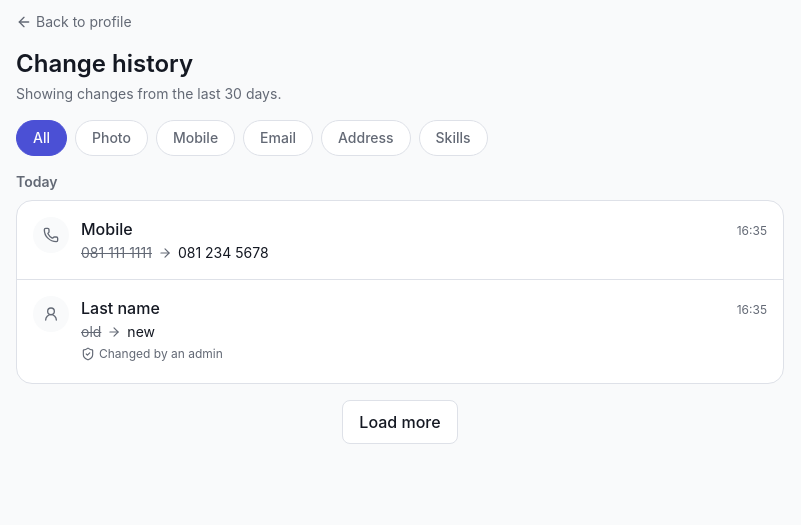
HistoryPage › shows the window from the API, groups by day, filters and loads more
Expected: the text "Showing changes from the last 30 days." is shown, [16,85,281,102]
Expected: the heading "Today" is shown, [16,173,58,190]
Click the button "Load more". click: (400, 422)
box: [342,400,458,444]
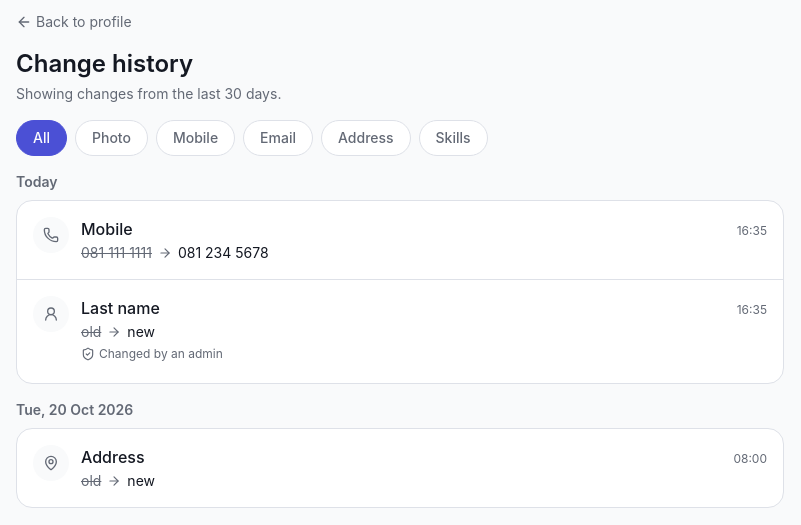
Expected: the text "Address" is shown, [81,445,144,469]
Expected: the button "Load more" is gone
Click the button "Skills". click: (453, 138)
box: [419,120,488,156]
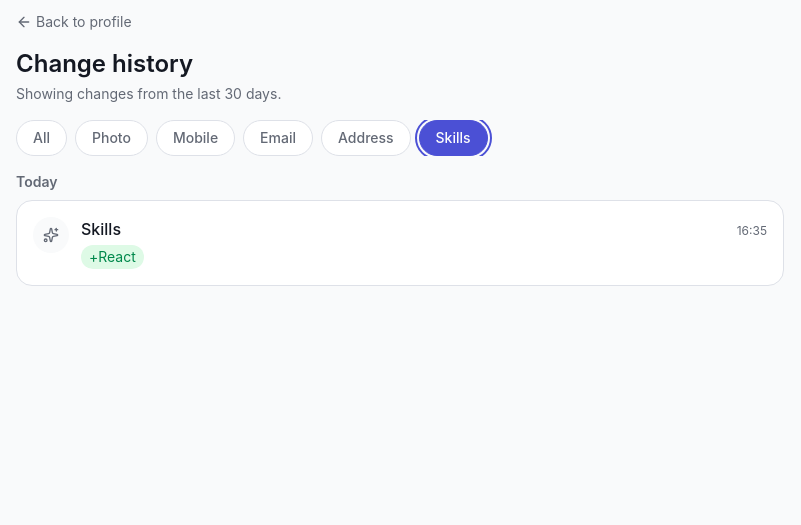
Expected: the text "React" is shown, [98,248,136,265]
